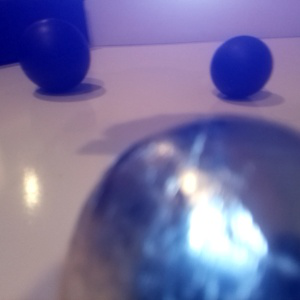alive_ball: (62, 117, 300, 300)
dead_ball: (17, 18, 91, 91), (209, 36, 274, 97)
